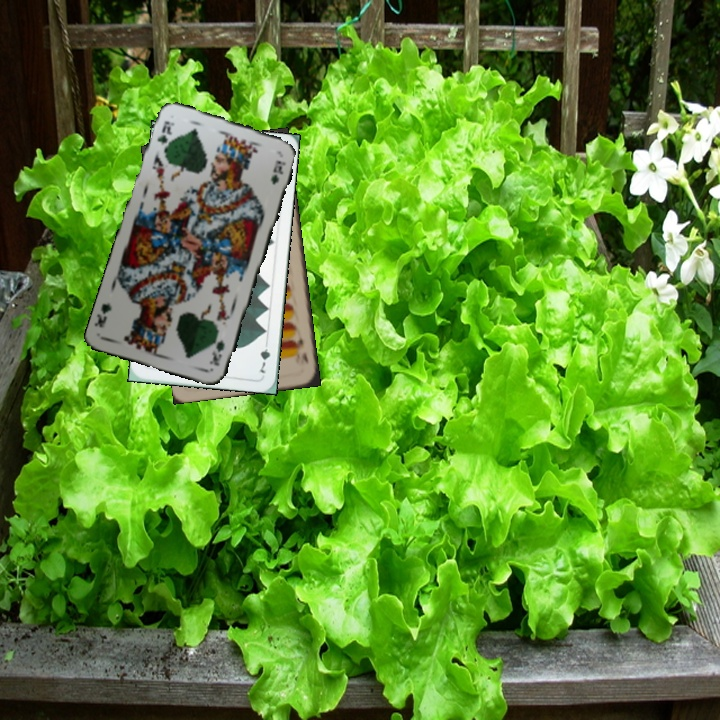E10: (291, 333, 311, 366)
G7: (256, 336, 272, 376)
GK: (153, 117, 176, 148), (206, 336, 227, 369)
